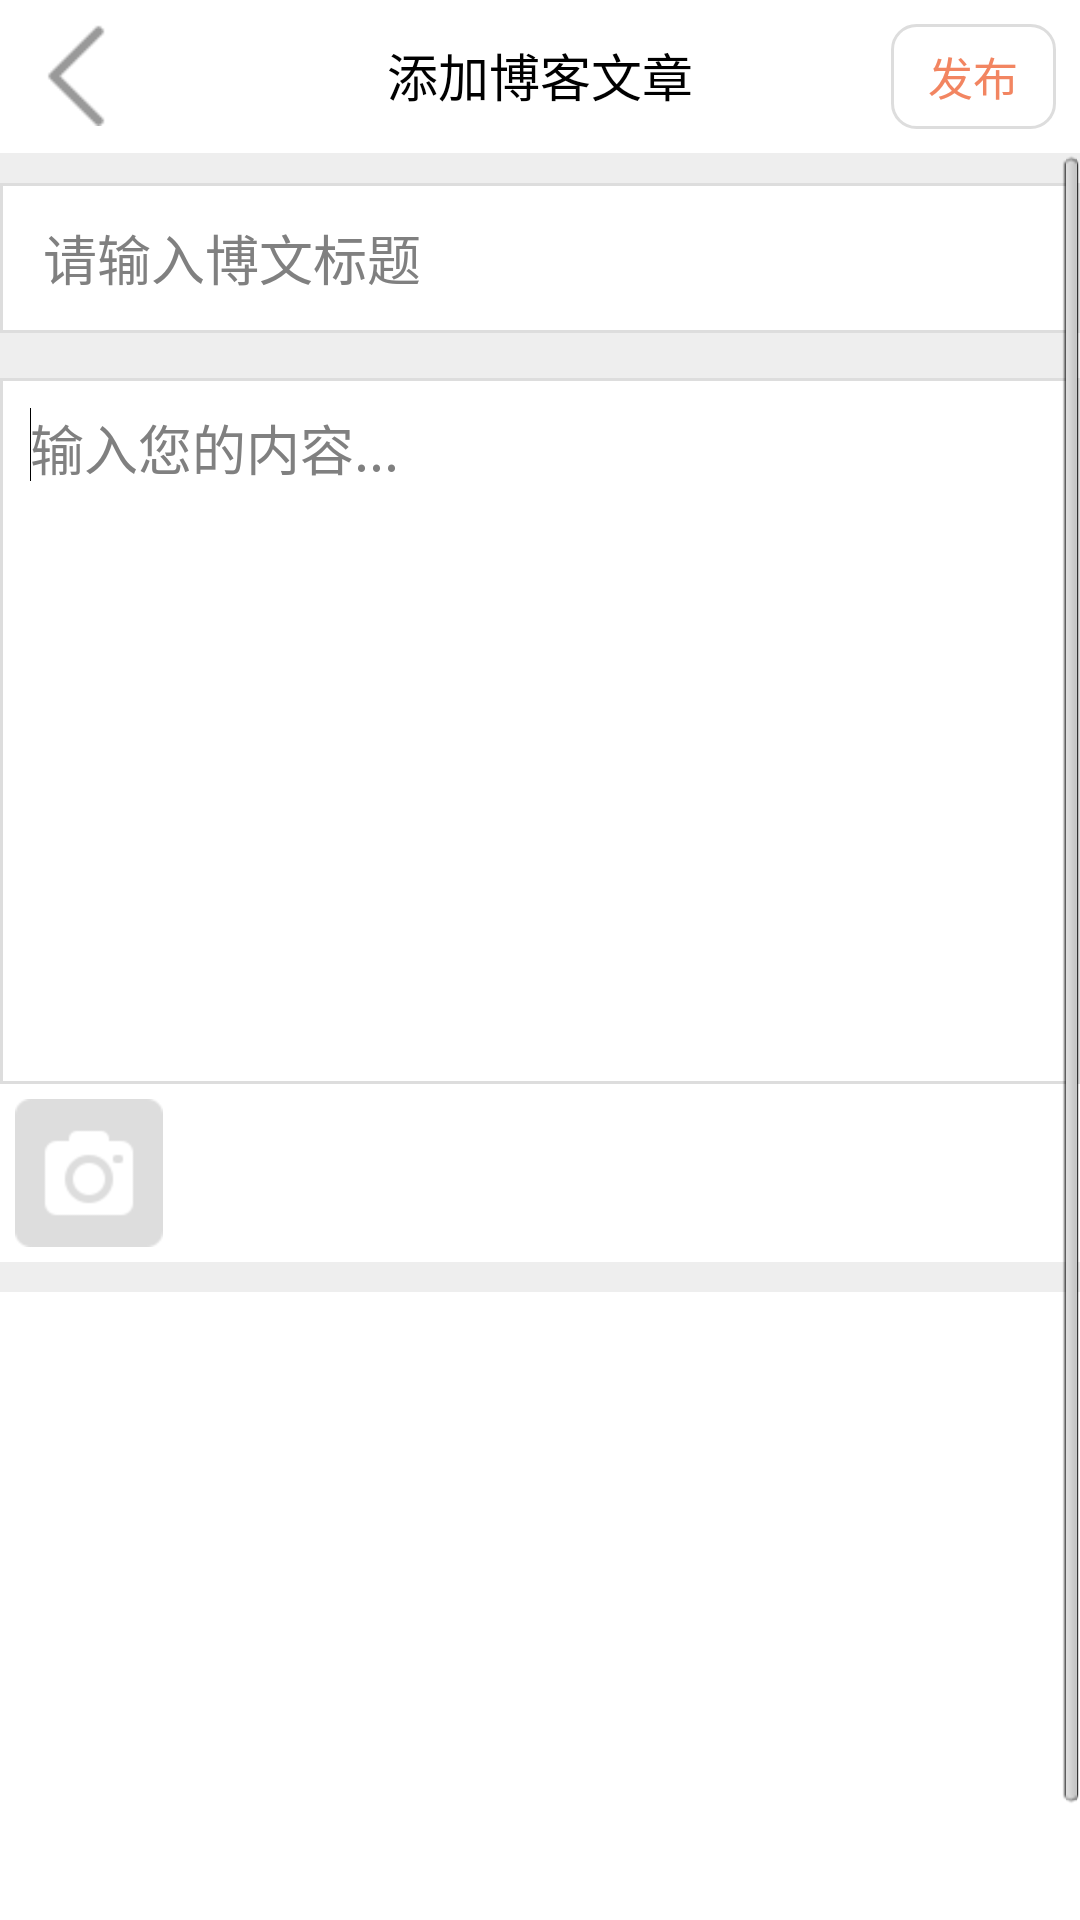

Screen size 1080px x 1920px. Icon name, then its center in pixels as (x,y):
back: (76,76)
camera: (89,1173)
